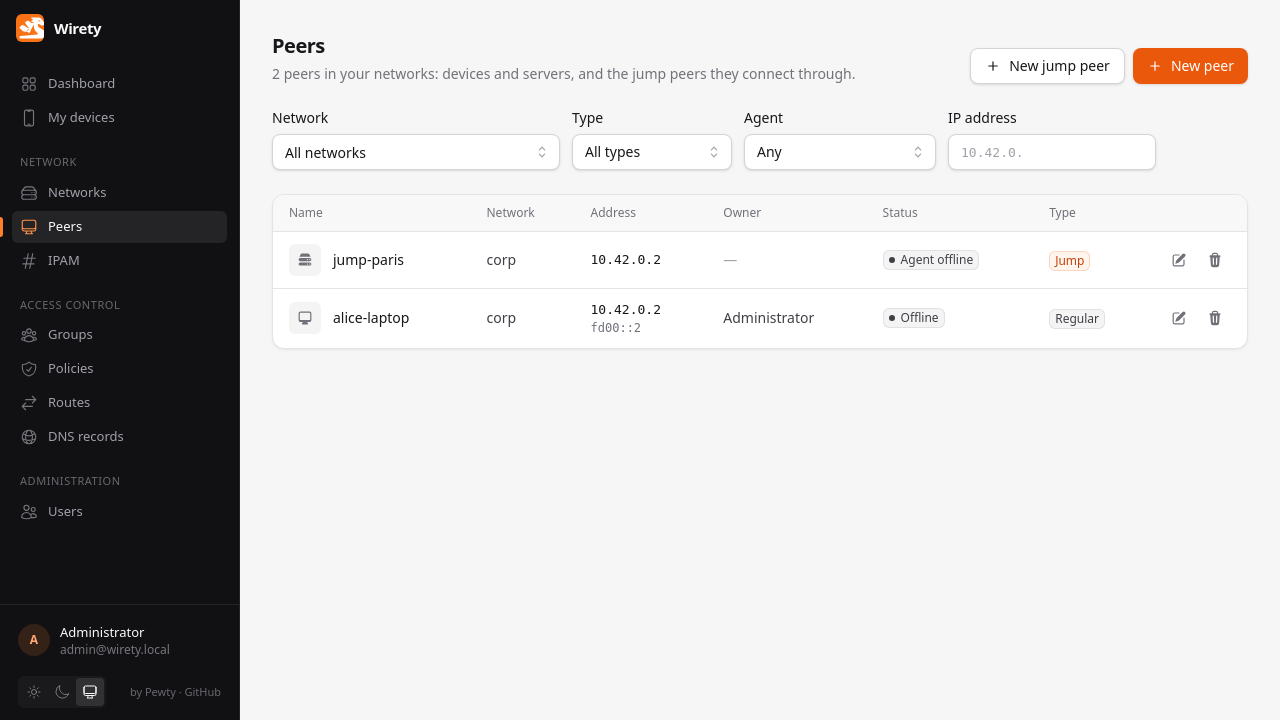
Test case: Peer details › opens on the configuration again after being closed
The width and height of the screenshot is (1280, 720).
What coordinates should you click on to do the following:
click the text "alice-laptop"
I would click on:
 (371, 318)
Its box is [333,308,409,328].
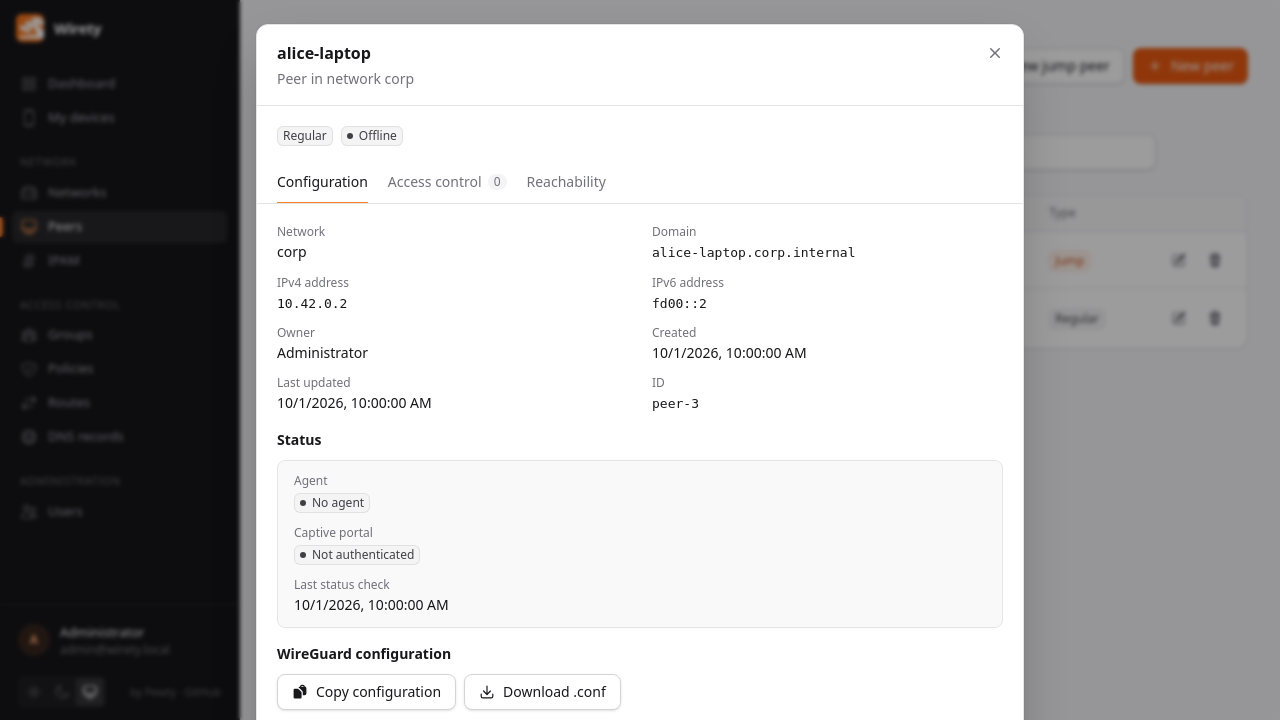
What coordinates should you click on to do the following:
click the tab "Reachability"
I would click on:
 (566, 183)
Its box is [526,162,606,204].
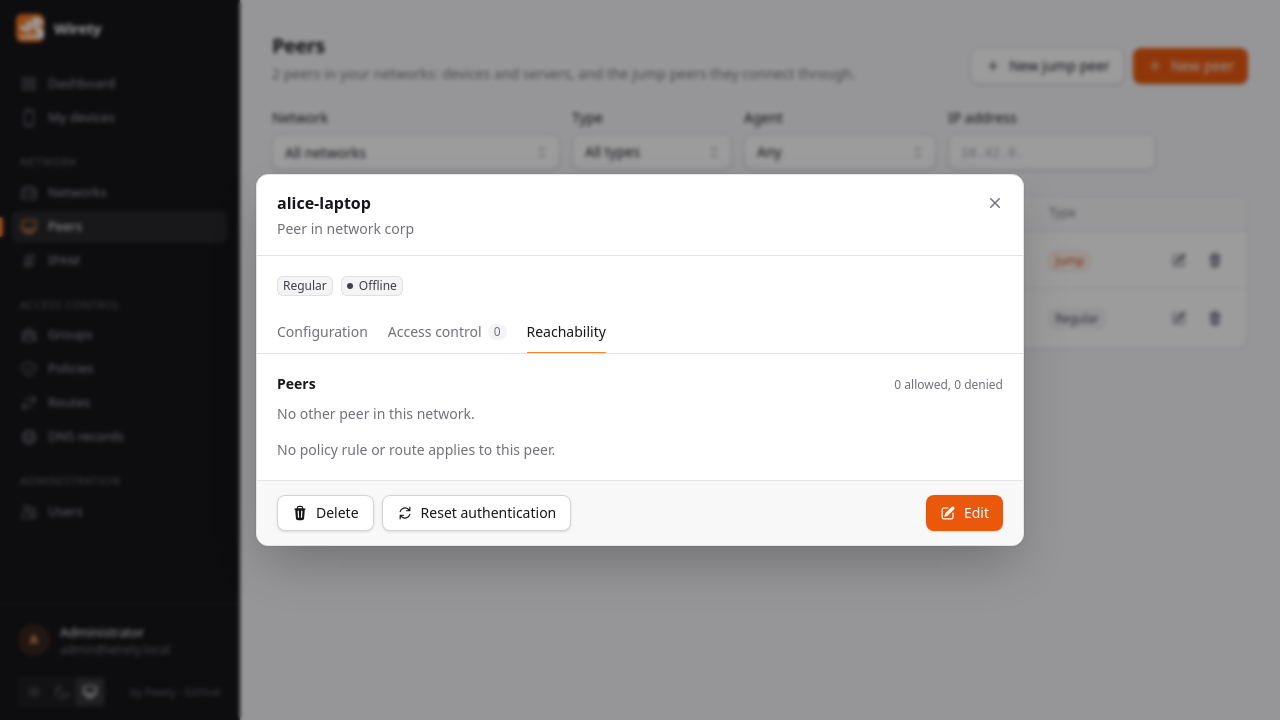
Result: the text "No other peer in this network." is shown at [277,404,475,423]
What coordinates should you click on to do the following:
click the button named "Close"
I would click on:
 (995, 203)
Its box is [979,187,1011,219].
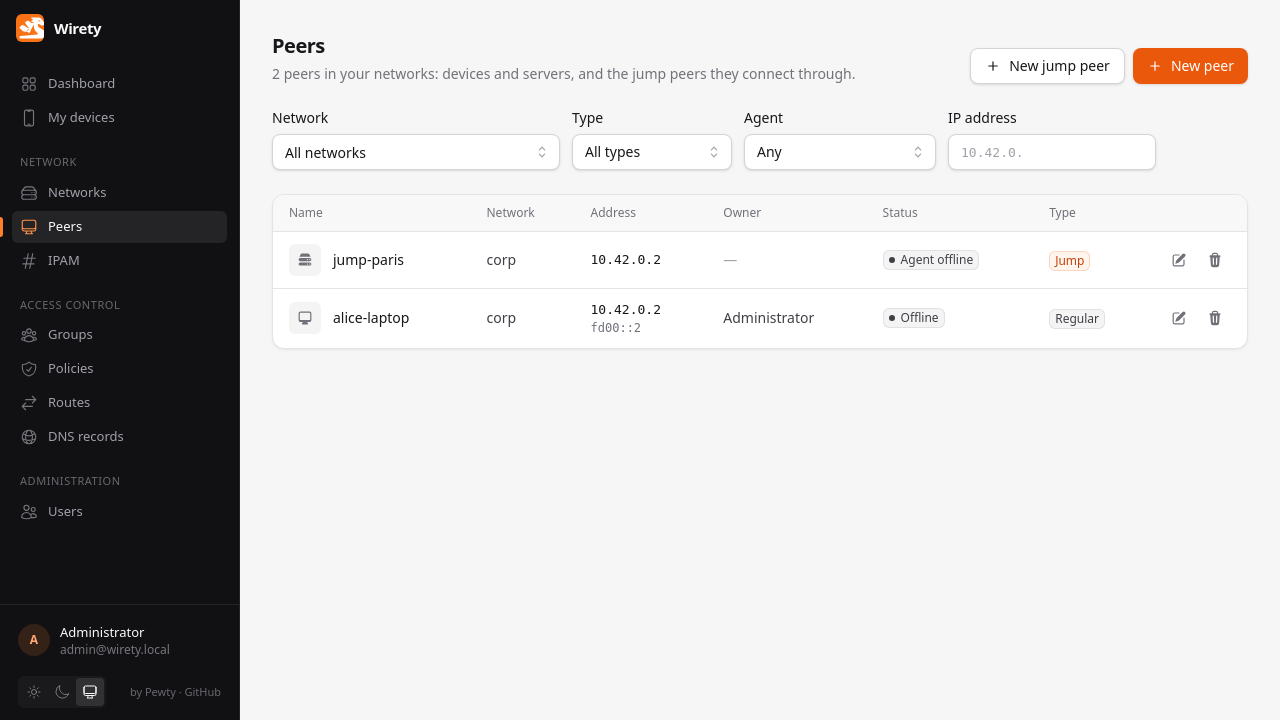
What coordinates should you click on to do the following:
click the text "jump-paris"
I would click on:
 (368, 260)
Its box is [333,250,404,270].
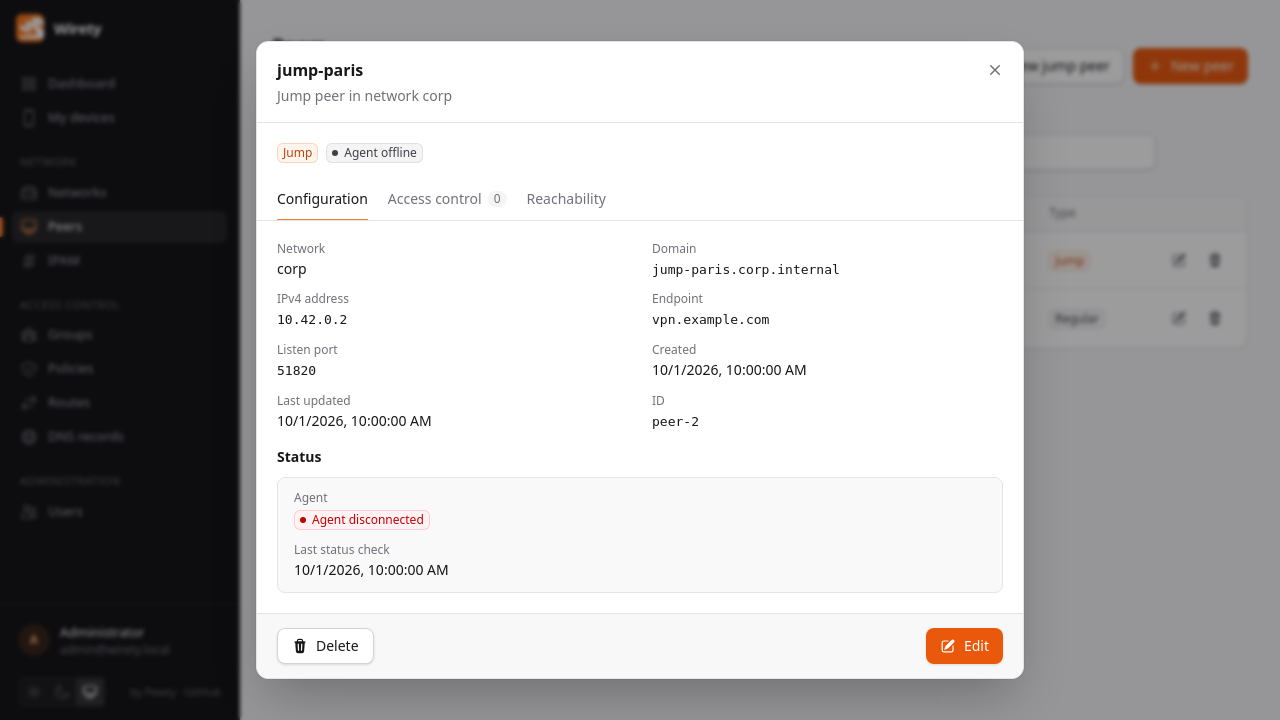
Result: the tab "Configuration" is shown at [277,179,368,221]
